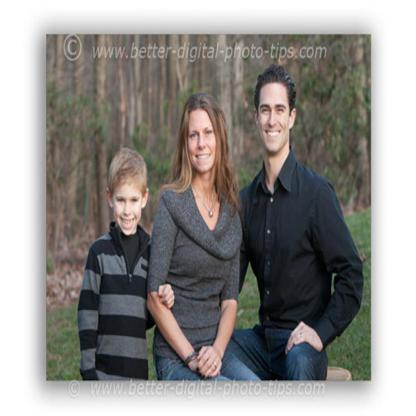face: (260, 85, 291, 150), (187, 110, 217, 173), (114, 174, 144, 236)
